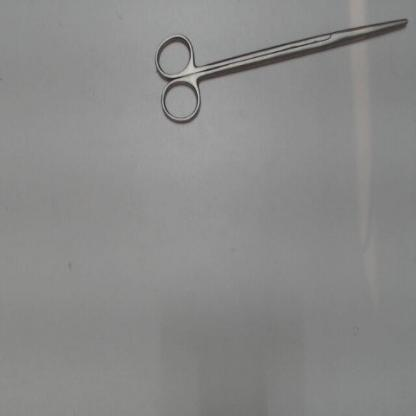9 Metzenbaum Scissors: (150, 12, 410, 130)
